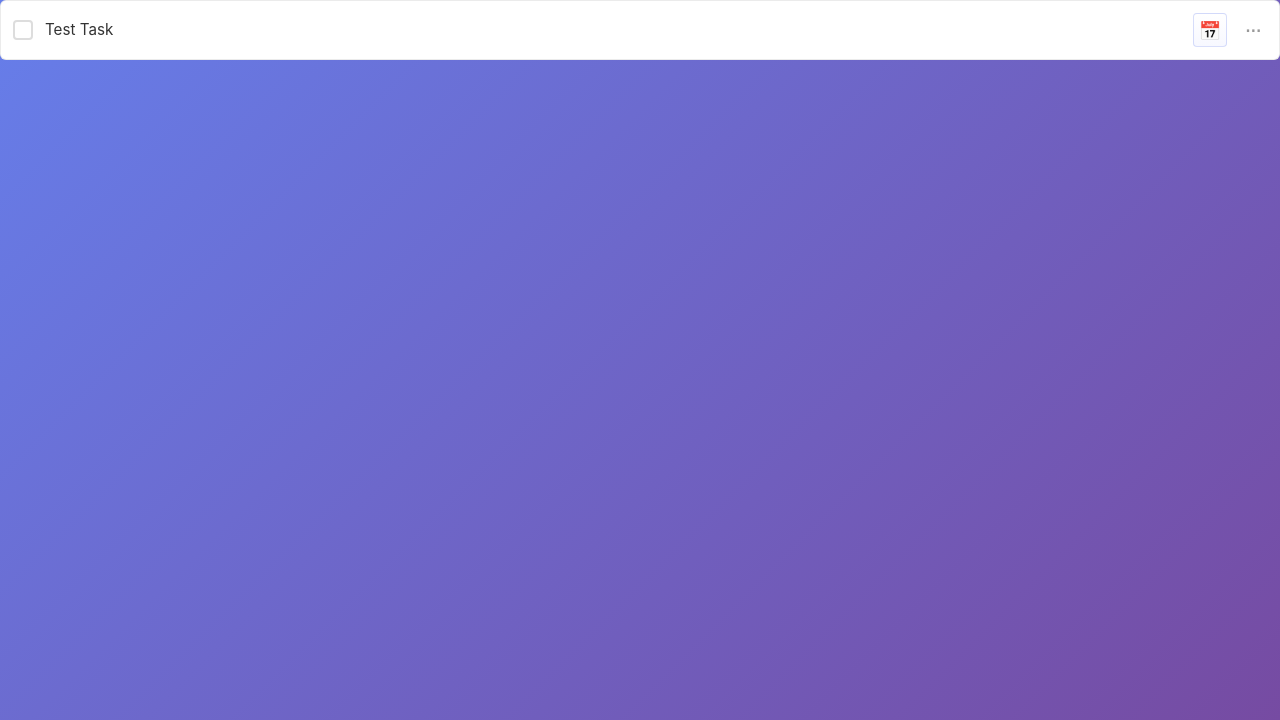
Task Component › Dropdown Menu › shows "No other projects" when only one project exists
Click the button titled "More actions": (1253, 30) x1=1239 y1=16 x2=1267 y2=44
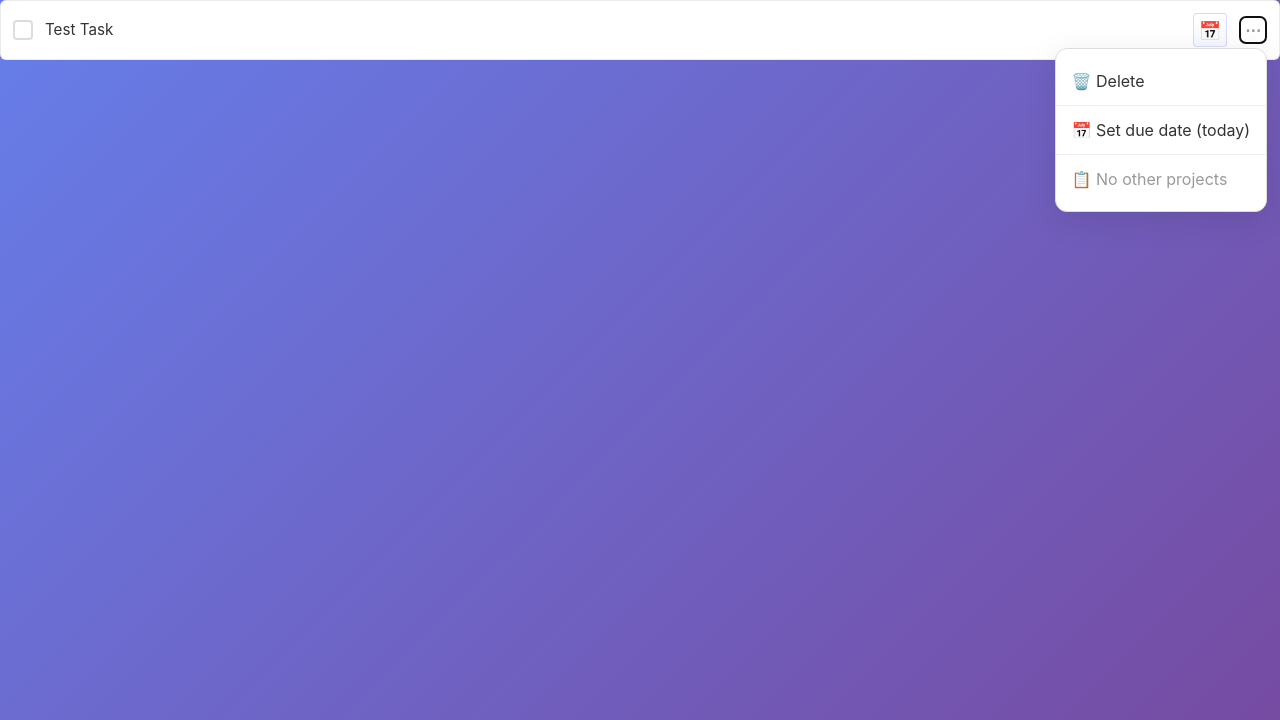
Now the button "📋 No other projects" is shown, box x1=1056 y1=155 x2=1266 y2=203
